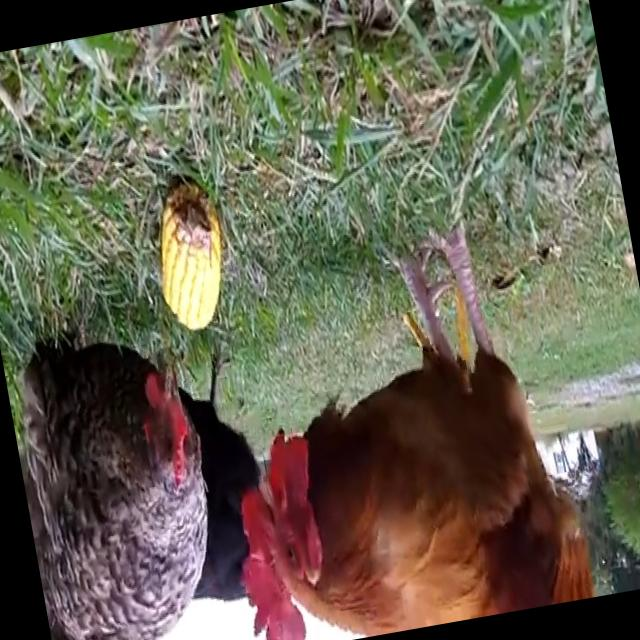feeding: (3, 334, 244, 640)
